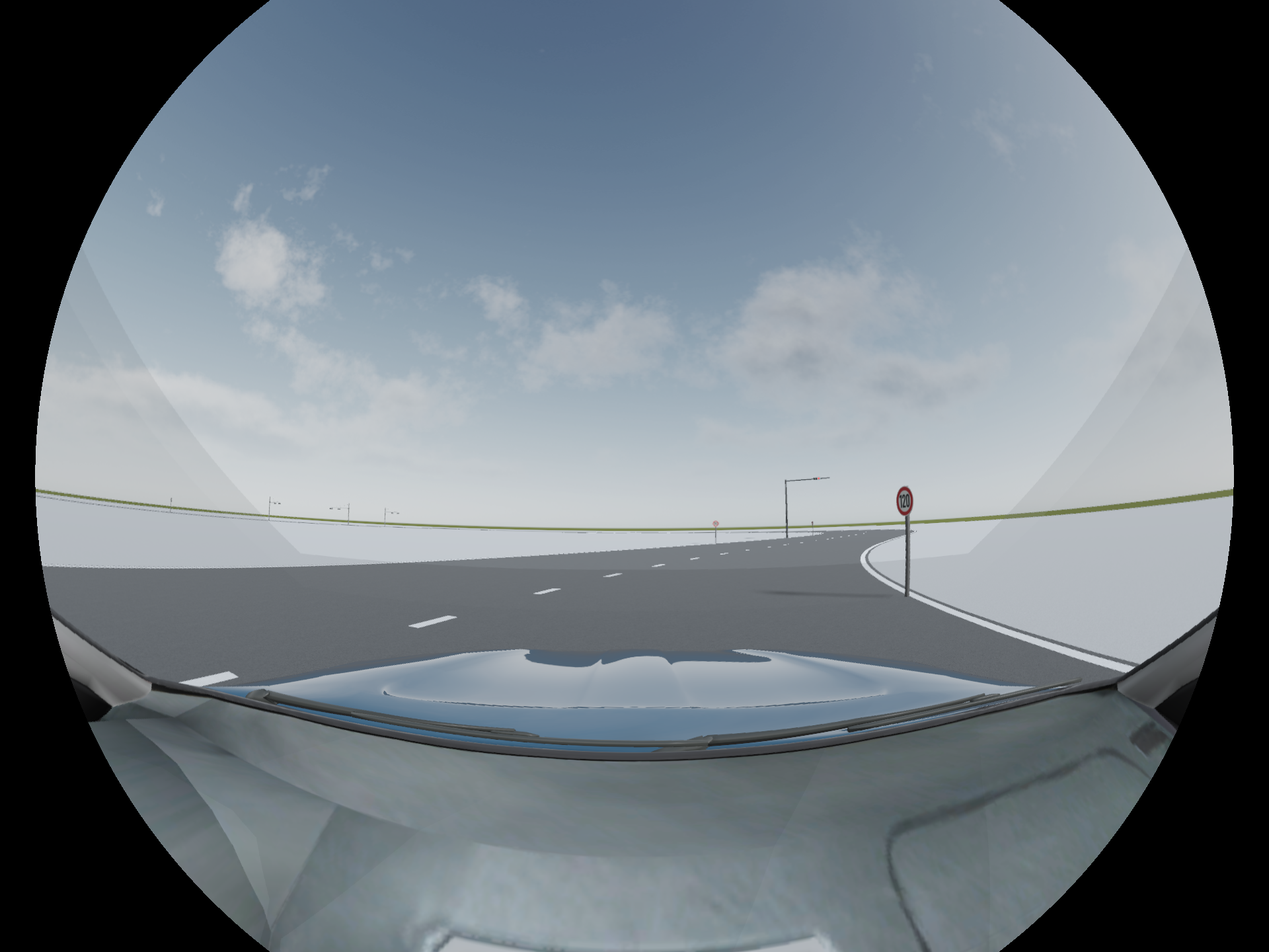Speed Limit 120: (897, 487, 913, 514)
